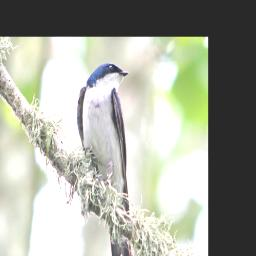Swallow: (75, 60, 136, 256)
